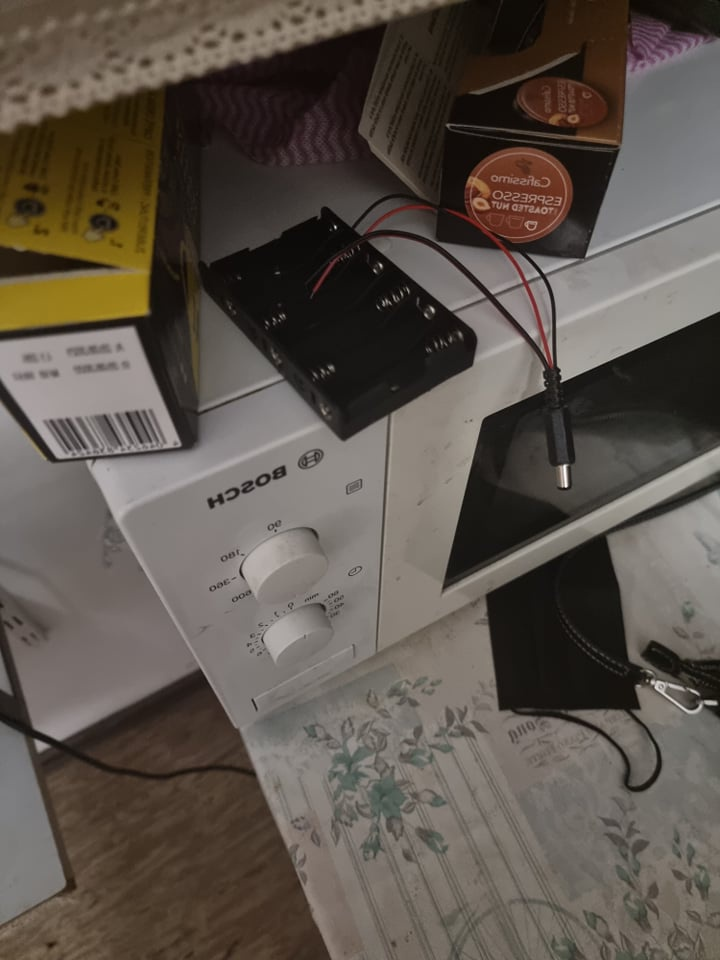BATTERY BOX: (201, 205, 475, 441)
